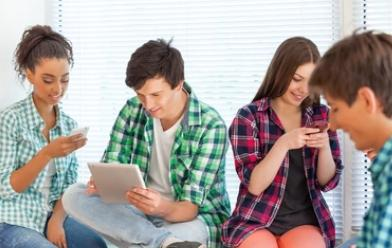phone: (89, 39, 229, 217), (229, 38, 342, 190), (0, 26, 89, 192)
